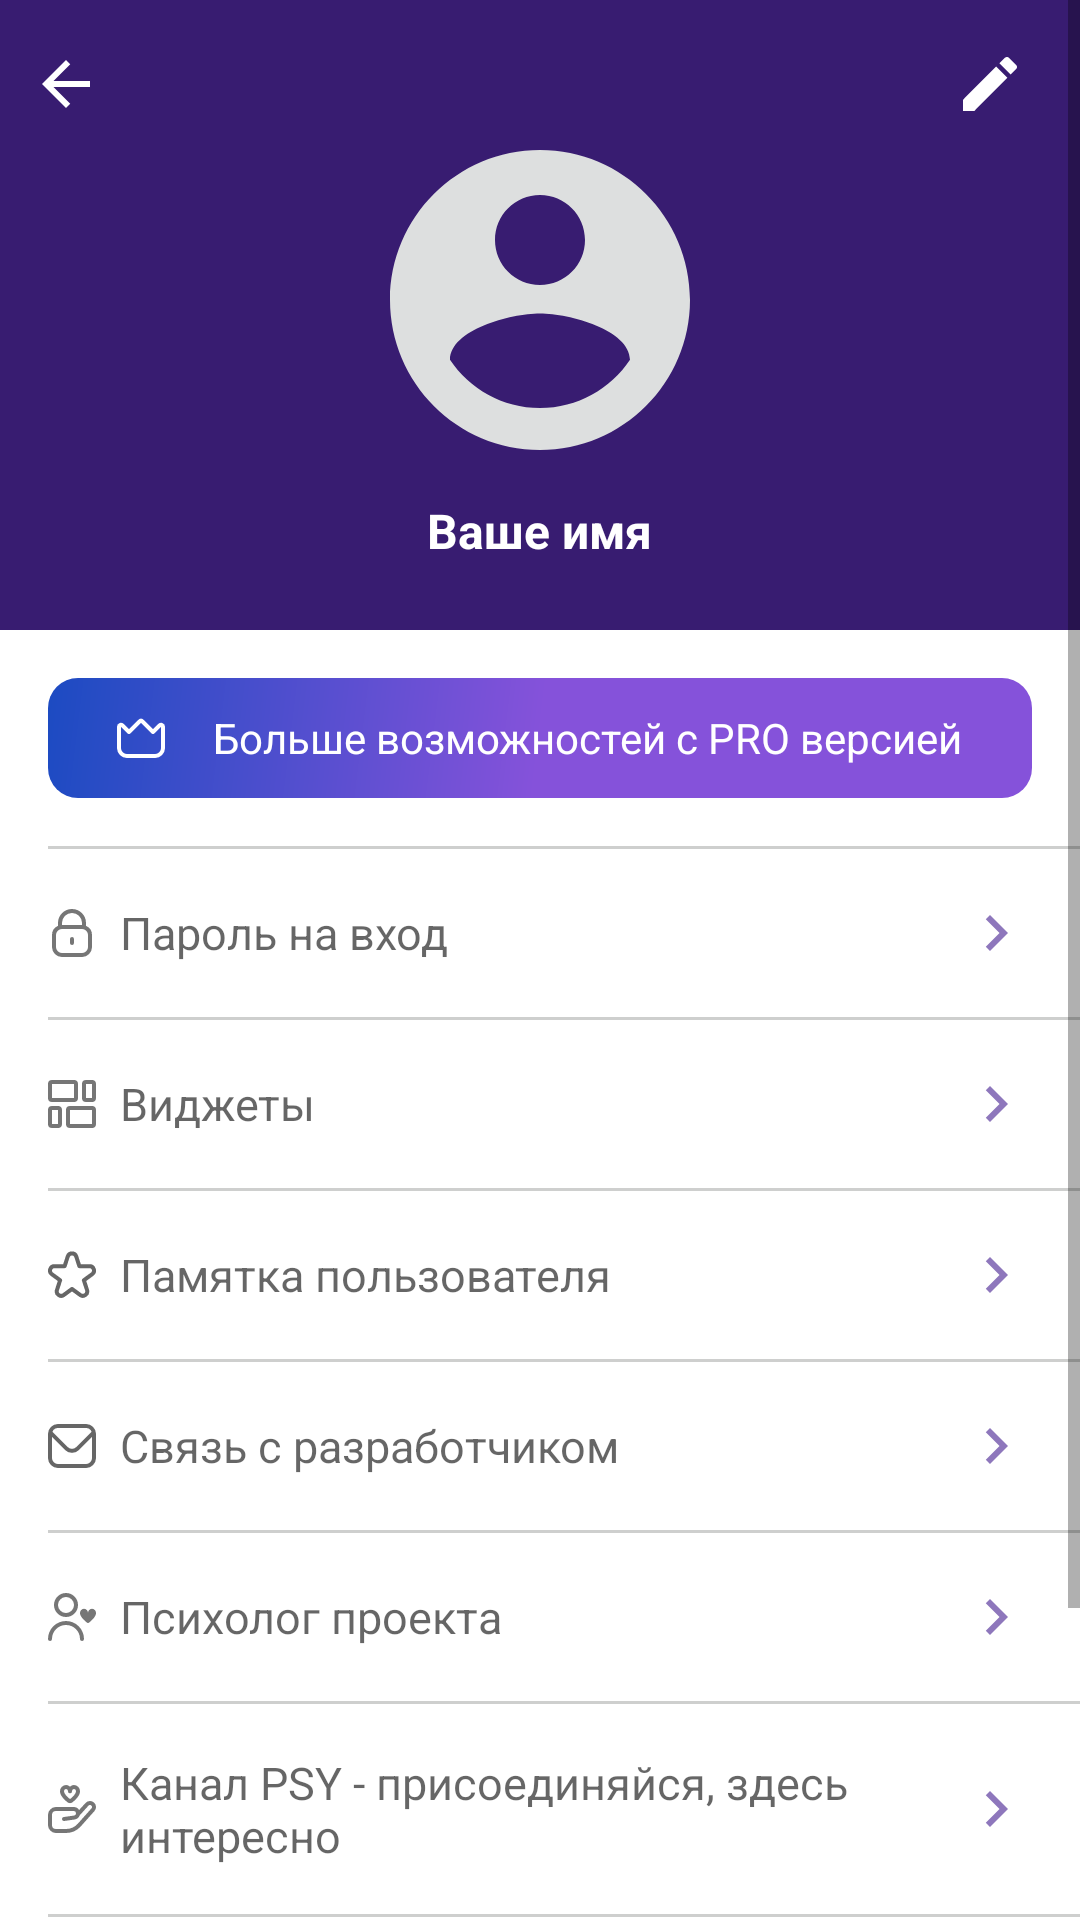

Point at icon controls on the screen. Image size 1080w x 1920h, points as point (x, y).
arrow back: point (66, 84)
edit: point (990, 84)
profile: point (540, 300)
